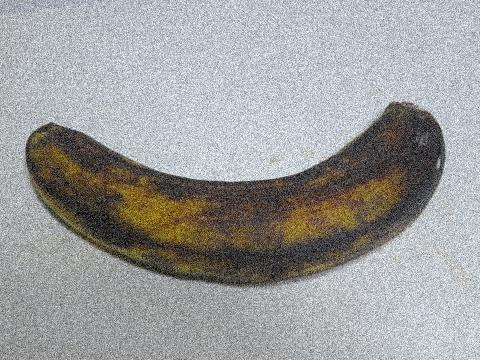overripe: (13, 84, 451, 291)
rotten: (383, 103, 479, 190)
